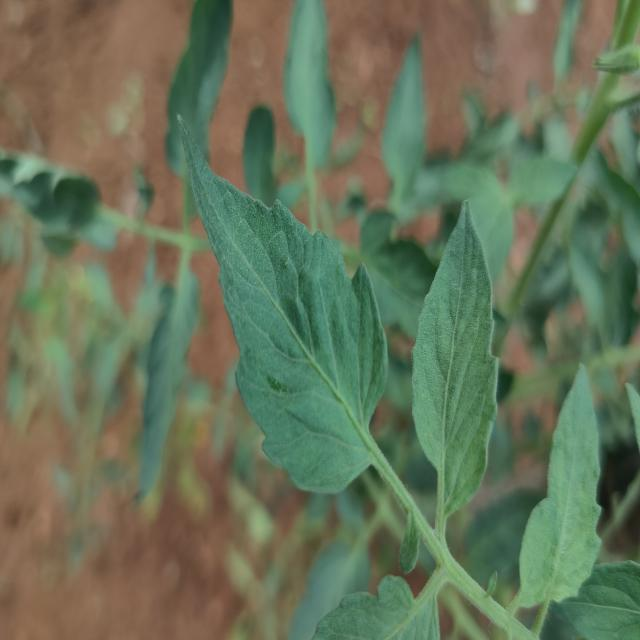tomato_healthy: (178, 118, 388, 496), (410, 202, 499, 516), (521, 367, 602, 606)
